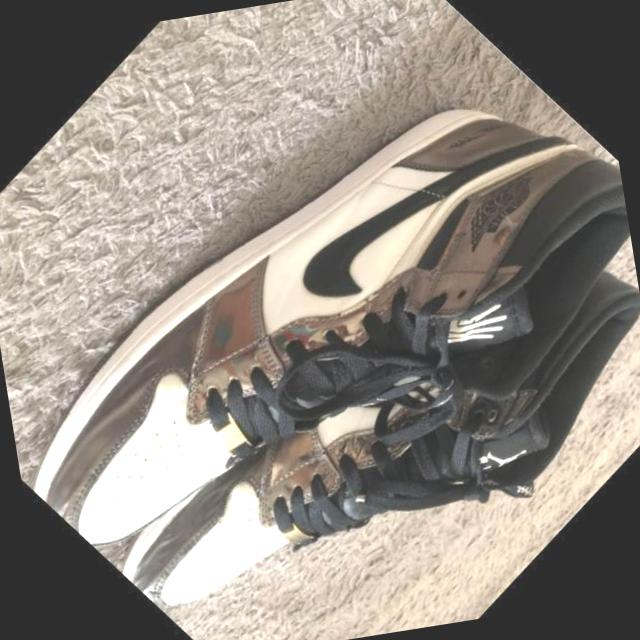nike_fake_jordan: (0, 0, 640, 640), (58, 131, 640, 640)
